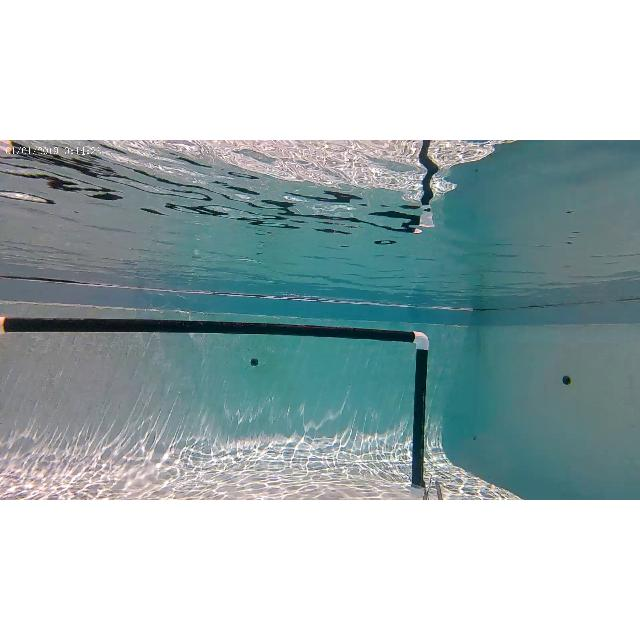prequal gate: (0, 315, 430, 499)
prequal gate leg r: (393, 326, 441, 500)
